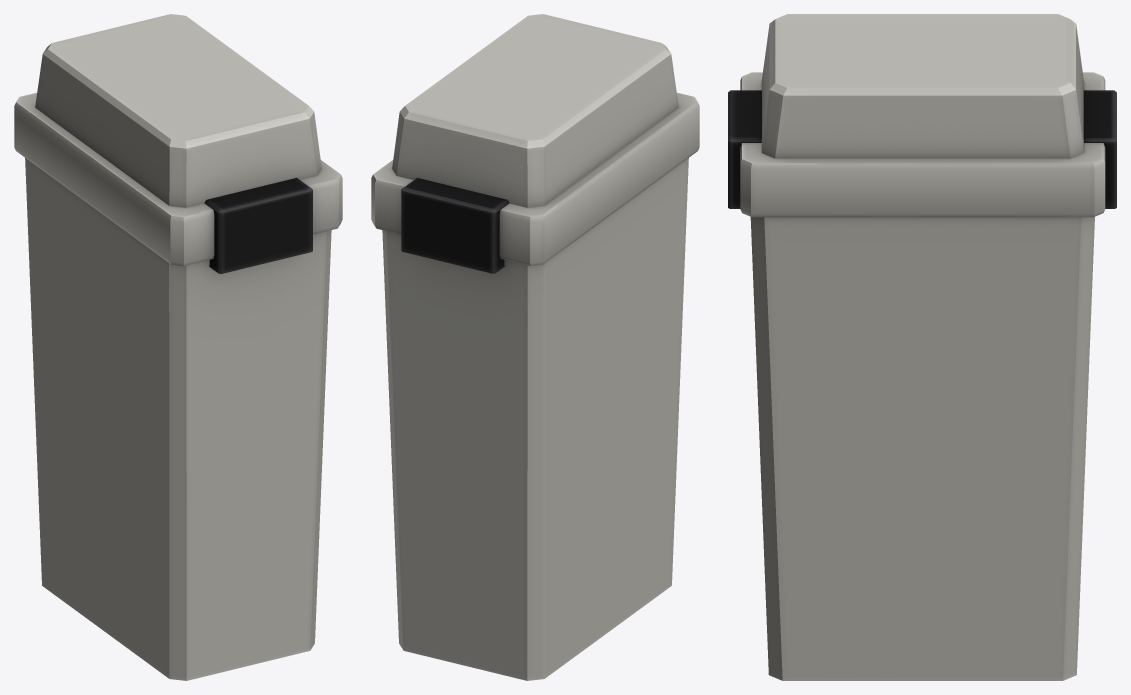
Rendered from sb_obj_ModernCity042_dustbox_a.fbx.
3 renders of one model, left to right at view 1: azimuth 30°, elevation 25°; view 2: azimuth 150°, elevation 25°; view 3: azimuth 270°, elevation 25°, orthographic. The views are drawn at different scales.
Parts seen in each view (by area): view 1: sb_obj_ModernCity042_dustbox_a; view 2: sb_obj_ModernCity042_dustbox_a; view 3: sb_obj_ModernCity042_dustbox_a.
Part boxes in pixels (x1=…): sb_obj_ModernCity042_dustbox_a: x1=14, y1=14, x2=342, y2=680; sb_obj_ModernCity042_dustbox_a: x1=371, y1=14, x2=699, y2=680; sb_obj_ModernCity042_dustbox_a: x1=728, y1=14, x2=1116, y2=680.
Bounding box in the file's own units: 0.1953 × 0.581 × 0.3463.
Materials: 1 (1 with a texture image).
